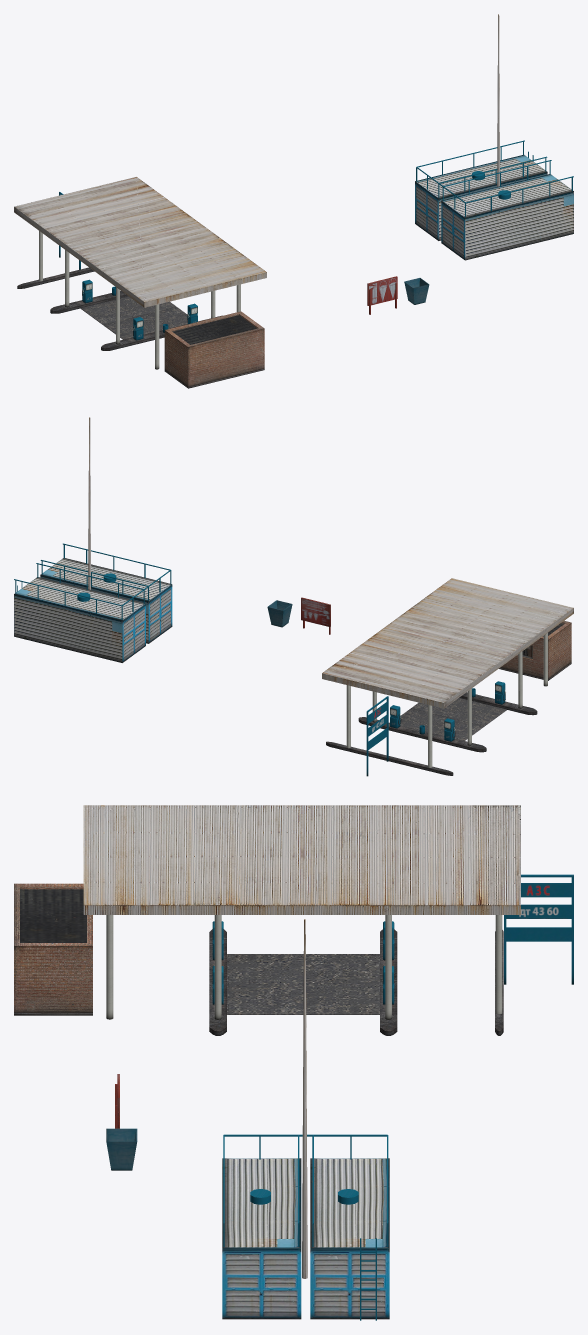
Rendered from Старая АЗС.fbx.
The picture shows the model from 3 angles, top to bottom: view 1: azimuth 30°, elevation 25°; view 2: azimuth 150°, elevation 25°; view 3: azimuth 270°, elevation 25°; orthographic projection. The views are drawn at different scales.
Parts seen in each view (by area): view 1: Box005; view 2: Box005; view 3: Box005.
Boxes of the visible parts, box(x1,y1,x2,y2) form: Box005: box(14, 14, 573, 388); Box005: box(14, 417, 573, 776); Box005: box(14, 805, 573, 1320).
Size of the model in its own units: 34.84 by 15.04 by 21.26.
1 material, 1 textured.
